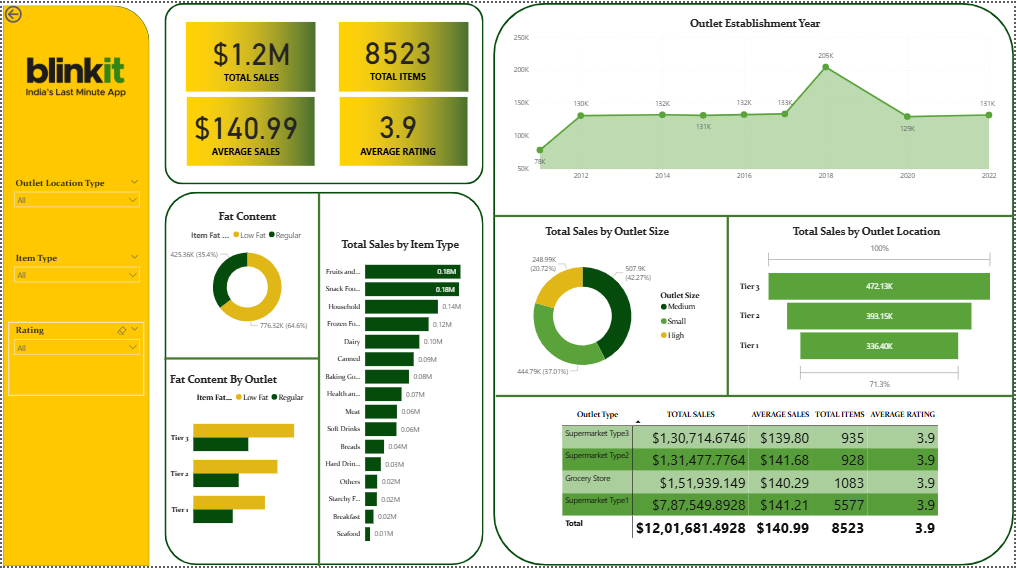

The dashboard page shown, as its layout file describes it:
{"tool":"powerbi","page":{"name":"Page 1","canvas":[1800,1000],"ordinal":0},"visuals":[{"type":"shape","box":[1.7,3.4,259.9,996.9],"z":0},{"type":"image","box":[12.3,0,236,263.5],"z":1000},{"type":"shape","box":[288.7,0,567.3,322.7],"z":2000},{"type":"image","box":[584.2,163,259.9,132.5],"z":3000},{"type":"shape","box":[873,0,925.6,1000.3],"z":4000},{"type":"image","box":[314.2,28.9,258.2,134.2],"z":5000},{"type":"image","box":[314.2,163,258.2,132.5],"z":6000},{"type":"image","box":[584.2,28.9,259.9,134.2],"z":7000},{"type":"card","fields":{"Values":["Table1.AVERAGE SALES"]},"box":[314.2,159.6,241.2,132.5],"z":8000},{"type":"card","fields":{"Values":["Table1.TOTAL ITEMS"]},"box":[584.2,27.2,239.5,132.5],"z":9000},{"type":"card","fields":{"Values":["Table1.AVERAGE RATING"]},"box":[584.2,159.6,239.5,130.8],"z":10000},{"type":"card","fields":{"Values":["Table1.Total Sales"]},"box":[325,28.3,238.3,131.7],"z":11000},{"type":"shape","box":[288.7,336.3,567.3,664.1],"z":12000},{"type":"donutChart","title":"Fat Content","fields":{"Category":["Table1.Item Fat Content"],"Y":["Sum(Table1.Sales)"]},"box":[270,368.3,330,220],"z":13000},{"type":"slicer","fields":{"Values":["Table1.Outlet Location Type"]},"box":[10,303.3,243.3,130],"z":14000},{"type":"slicer","fields":{"Values":["Table1.Item Type"]},"box":[11.7,436.7,243.3,130],"z":15000},{"type":"shape","box":[874.4,0,925.6,1000.3],"z":16000},{"type":"slicer","fields":{"Values":["Table1.Rating"]},"box":[10,566.7,243.3,130],"z":17000},{"type":"shape","box":[288.3,416.7,275,428.3],"z":18000},{"type":"shape","box":[318.3,336.7,491.7,663.3],"z":19000},{"type":"clusteredBarChart","title":"Fat Content By Outlet","fields":{"Category":["Table1.Outlet Location Type"],"Y":["CountNonNull(Table1.Item Identifier)"],"Series":["Table1.Item Fat Content"]},"box":[293.3,656.7,300,300],"z":20000},{"type":"barChart","title":"Total Sales by Item Type","fields":{"Category":["Table1.Item Type"],"Y":["Sum(Table1.Sales)"]},"box":[556.7,416.7,300,556.7],"z":21000},{"type":"areaChart","title":"Outlet Establishment Year","fields":{"Category":["Table1.Outlet Establishment Year"],"Y":["Sum(Table1.Sales)"]},"box":[903.3,23.3,868.3,300],"z":22000},{"type":"actionButton","box":[0,0,100,40],"z":23000},{"type":"shape","box":[875,163.3,923.3,428.3],"z":24000},{"type":"donutChart","title":"Total Sales by Outlet Size","fields":{"Category":["Table1.Outlet Size"],"Y":["Sum(Table1.Sales)"]},"box":[888.3,395,373.3,300],"z":25000},{"type":"shape","box":[1045,376.7,491.7,320],"z":26000},{"type":"funnel","title":"Total Sales by Outlet Location","fields":{"Category":["Table1.Outlet Location Type"],"Y":["Sum(Table1.Sales)"]},"box":[1306.7,395,460,300],"z":27000},{"type":"shape","box":[876.7,483.3,923.3,428.3],"z":28000},{"type":"pivotTable","fields":{"Rows":["Table1.Outlet Type"],"Values":["Table1.TOTAL SALES","Table1.AVERAGE SALES","Table1.TOTAL ITEMS","Table1.AVERAGE RATING"]},"box":[991.7,715,693.3,260],"z":29000}]}

Visuals, with their boxes in screenshot pixels (x1, y1, x2, y2), scaled from the page's 1800x1000 canvas onto the 1017x568 screenshot:
shape: box=[1, 2, 148, 567]
image: box=[7, 0, 140, 150]
shape: box=[163, 0, 484, 183]
image: box=[330, 93, 477, 168]
shape: box=[493, 0, 1016, 567]
image: box=[178, 16, 323, 93]
image: box=[178, 93, 323, 168]
image: box=[330, 16, 477, 93]
card - Table1.AVERAGE SALES: box=[178, 91, 314, 166]
card - Table1.TOTAL ITEMS: box=[330, 15, 465, 91]
card - Table1.AVERAGE RATING: box=[330, 91, 465, 165]
card - Table1.Total Sales: box=[184, 16, 318, 91]
shape: box=[163, 191, 484, 567]
"Fat Content" donutChart: box=[153, 209, 339, 334]
slicer - Table1.Outlet Location Type: box=[6, 172, 143, 246]
slicer - Table1.Item Type: box=[7, 248, 144, 322]
shape: box=[494, 0, 1016, 567]
slicer - Table1.Rating: box=[6, 322, 143, 396]
shape: box=[163, 237, 318, 480]
shape: box=[180, 191, 458, 567]
"Fat Content By Outlet" clusteredBarChart: box=[166, 373, 335, 543]
"Total Sales by Item Type" barChart: box=[315, 237, 484, 553]
"Outlet Establishment Year" areaChart: box=[510, 13, 1001, 184]
actionButton: box=[0, 0, 56, 23]
shape: box=[494, 93, 1016, 336]
"Total Sales by Outlet Size" donutChart: box=[502, 224, 713, 395]
shape: box=[590, 214, 868, 396]
"Total Sales by Outlet Location" funnel: box=[738, 224, 998, 395]
shape: box=[495, 275, 1016, 518]
pivotTable - Table1.Outlet Type x Table1.TOTAL SALES: box=[560, 406, 952, 554]
